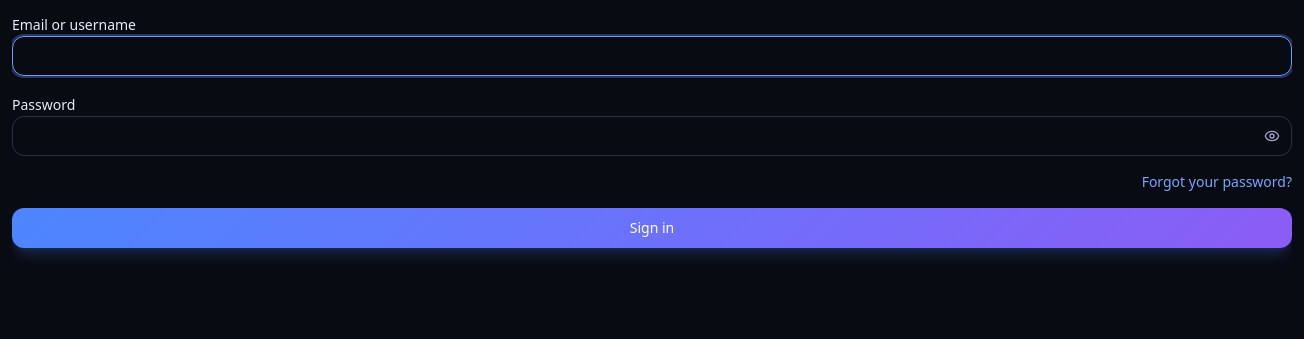
LoginForm › announces bad credentials in an alert without revealing which field was wrong
Type "ada" into the field labelled "Email or username".
click(652, 56); type("ada")  # box [12, 36, 1292, 76]
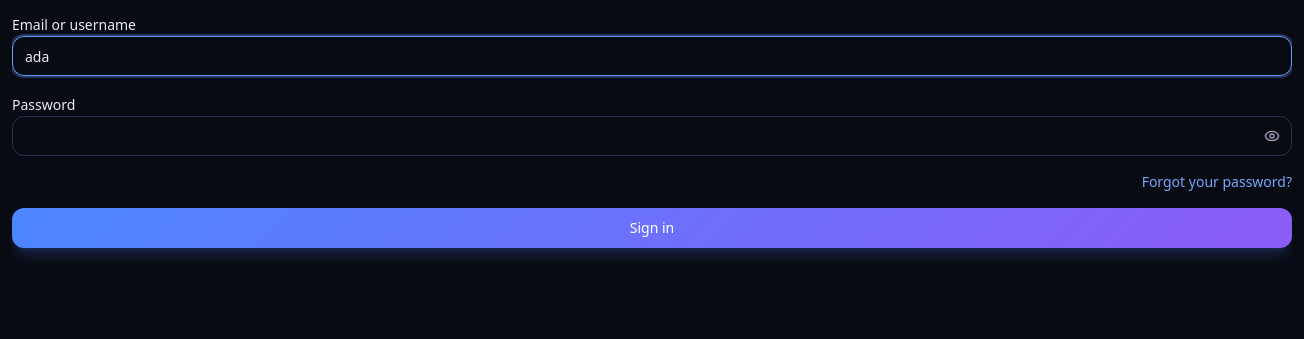
Type "wrong-password" into the password field labelled "Password".
click(652, 136); type("wrong-password")  # box [12, 116, 1292, 156]
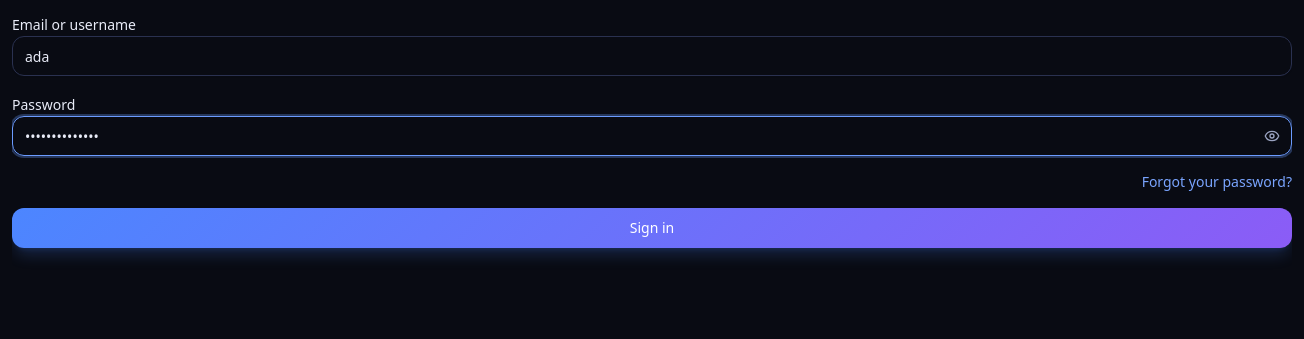
Click the button "Sign in".
click(652, 228)  # box [12, 208, 1292, 248]
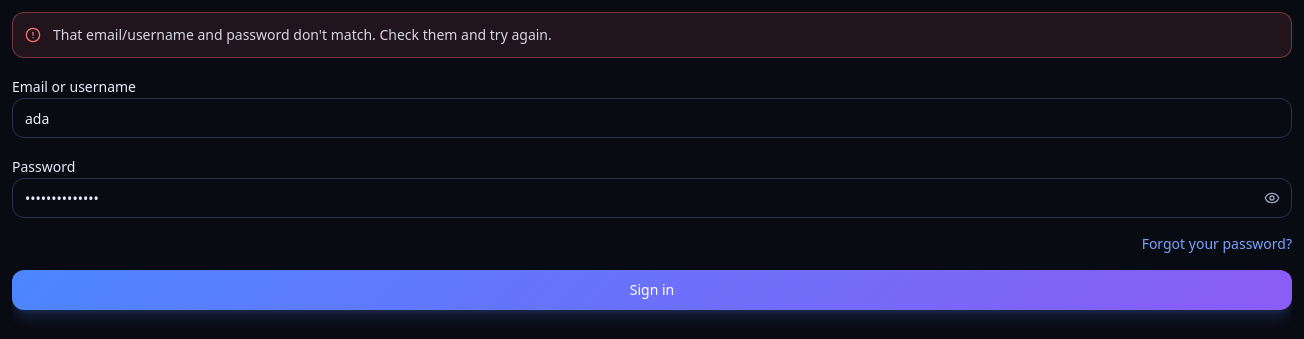
Check: the message shows "don't match", box [53, 25, 552, 44]
